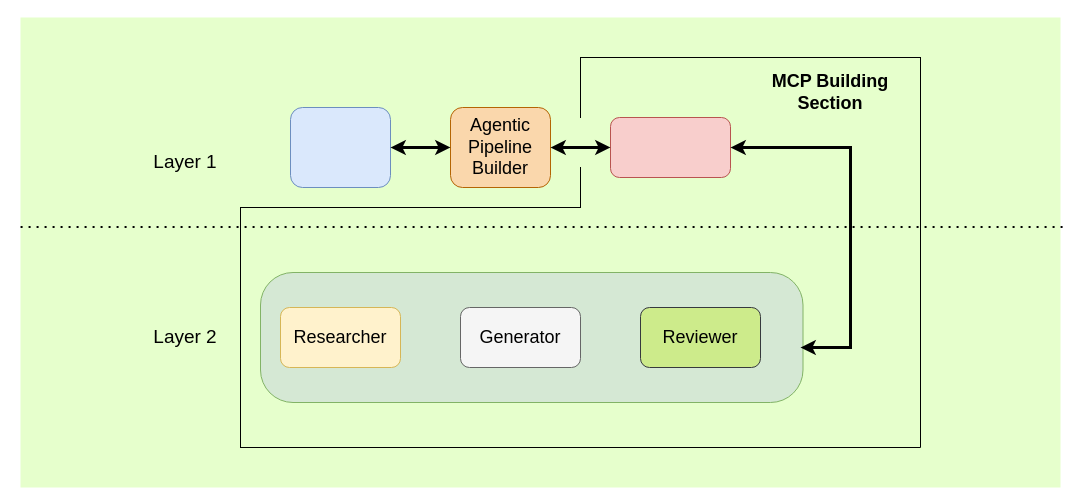
Some shapes in this 1082 by 504 pixel diagram are drawn without their labels. The shapes that lost their labels are listed below. From the top down, each one's centre as x and y in pixels, then its label:
the point at 340,147: USER
the point at 670,147: Orchestrator
